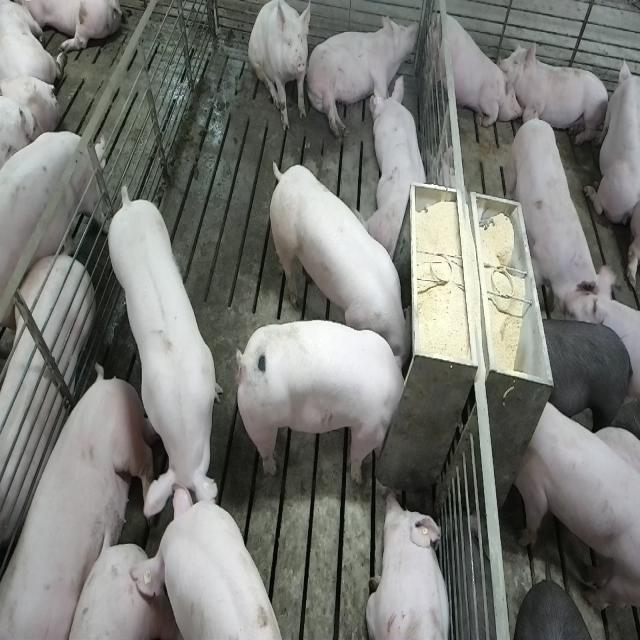Feeding: (263, 160, 412, 366), (231, 318, 408, 485)
Lateral_lying: (5, 367, 160, 640), (307, 14, 420, 141)
Sitting: (425, 4, 514, 139), (248, 1, 311, 134)
Standing: (105, 188, 220, 537), (0, 252, 92, 562), (514, 394, 638, 622), (0, 125, 107, 352), (149, 490, 285, 640), (512, 106, 604, 322), (540, 316, 636, 435)
Sternal_lying: (366, 489, 452, 640), (367, 73, 431, 259), (506, 39, 611, 150), (584, 55, 638, 227)
